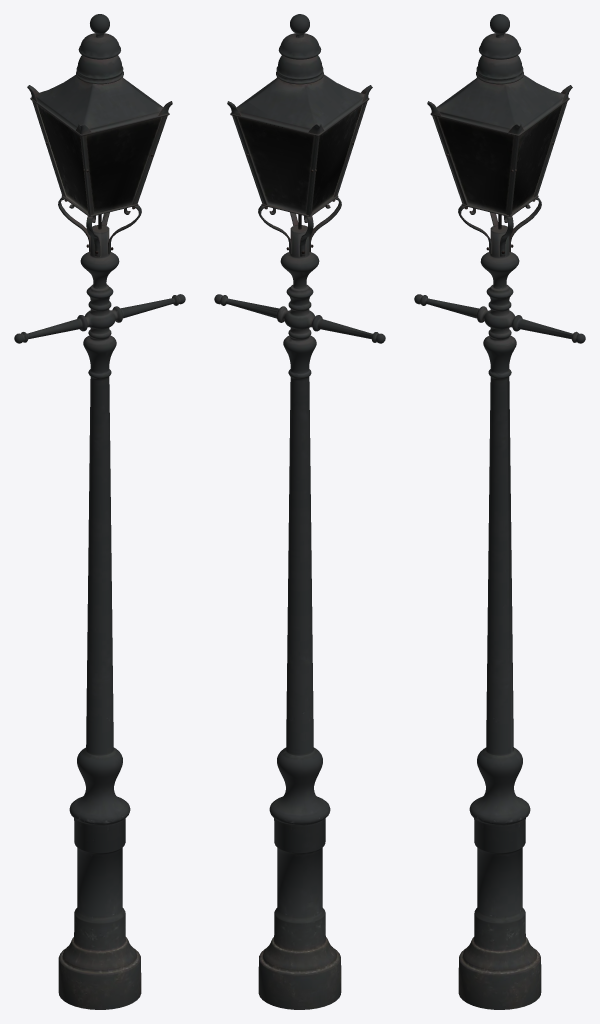
Rendered from lamp1.glb.
The picture shows the model from 3 angles, left to right: view 1: azimuth 30°, elevation 25°; view 2: azimuth 150°, elevation 25°; view 3: azimuth 330°, elevation 25°; orthographic projection.
Parts seen in each view (by area): view 1: street_lamp_01; view 2: street_lamp_01; view 3: street_lamp_01.
Boxes of the visible parts, box(x1,y1,x2,y2) form: street_lamp_01: box(14, 14, 185, 1009); street_lamp_01: box(214, 14, 385, 1009); street_lamp_01: box(414, 14, 585, 1009).
Size of the model in its own units: 0.704 by 3.87 by 0.3865.
2 materials, 2 textured.
